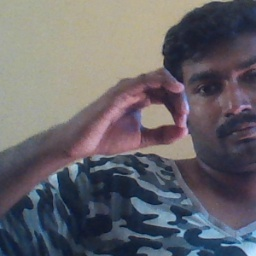O: (70, 65, 191, 158)
